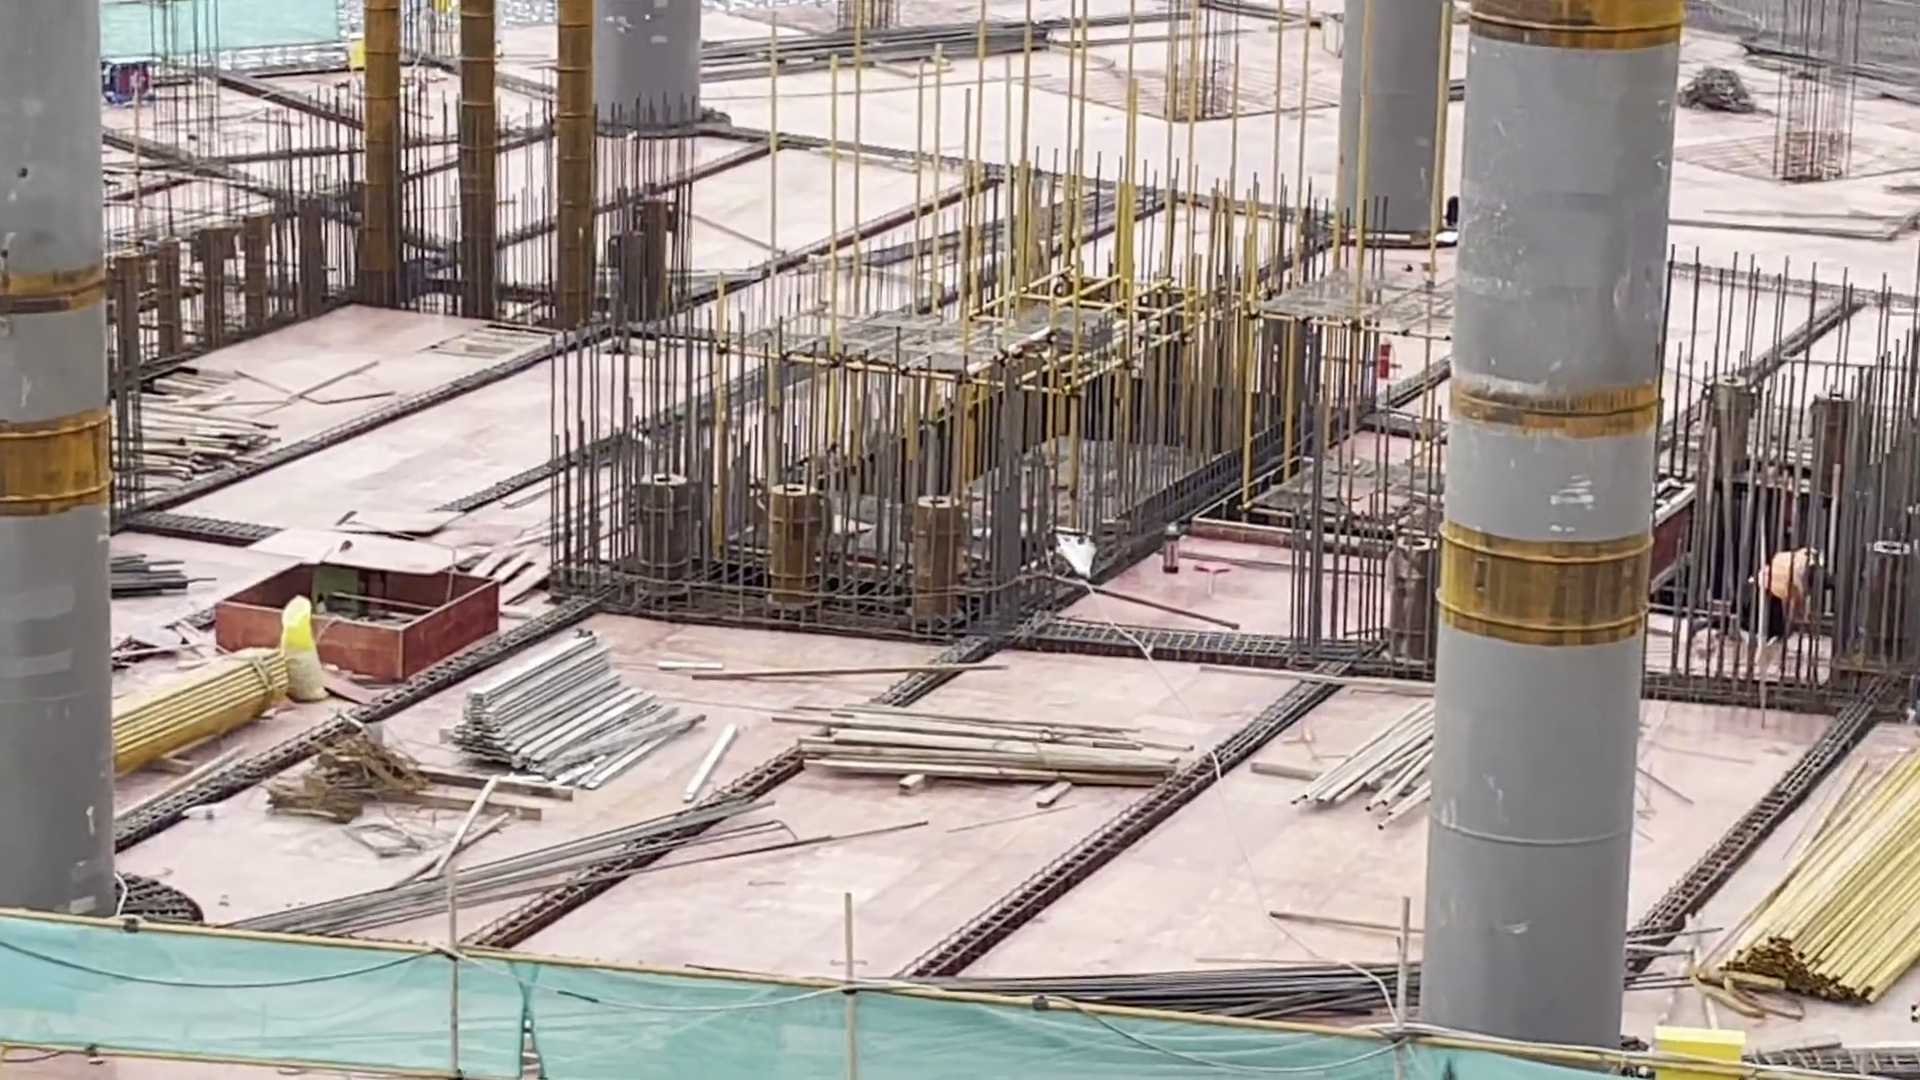ebox: (1653, 1019, 1741, 1080)
person: (1735, 534, 1826, 648)
wood: (142, 388, 278, 490)
